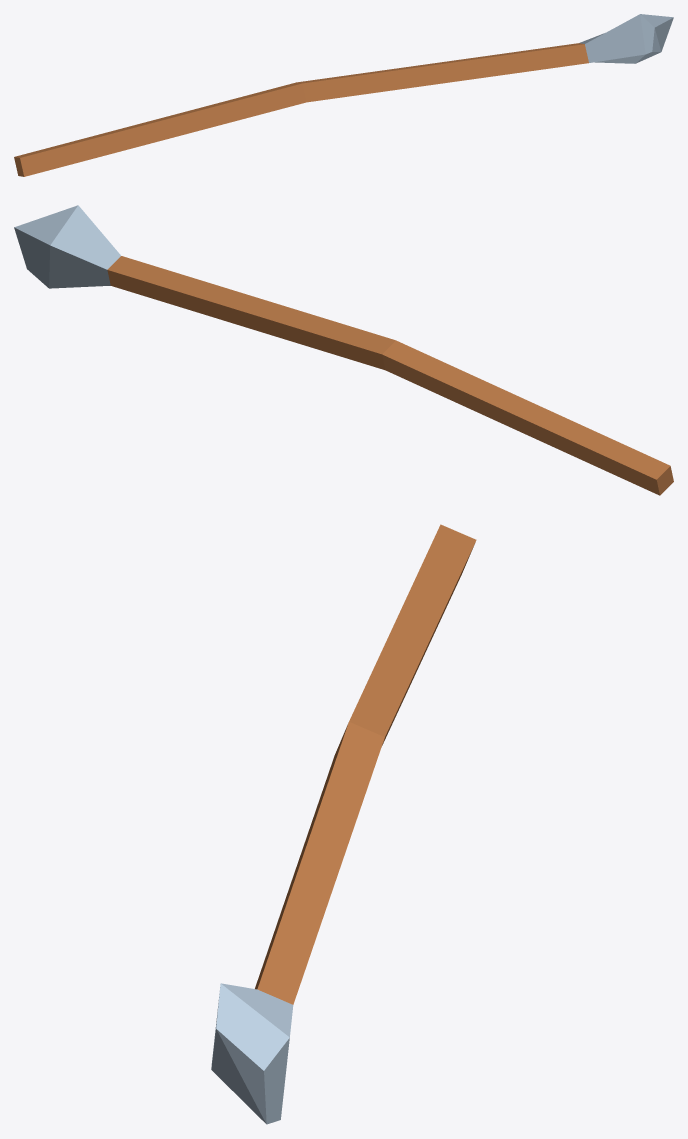
3 renders of one model, top to bottom at view 1: azimuth 30°, elevation 25°; view 2: azimuth 150°, elevation 25°; view 3: azimuth 270°, elevation 25°, orthographic. The views are drawn at different scales.
Visible parts, largest first — view 1: CM_03; view 2: CM_03; view 3: CM_03.
Part boxes in pixels (x1,y1,x2,y2): CM_03: (14,14,673,176); CM_03: (14,205,673,495); CM_03: (211,524,476,1124).
Bounding box in the file's own units: 1.48 × 0.16 × 0.2781.
